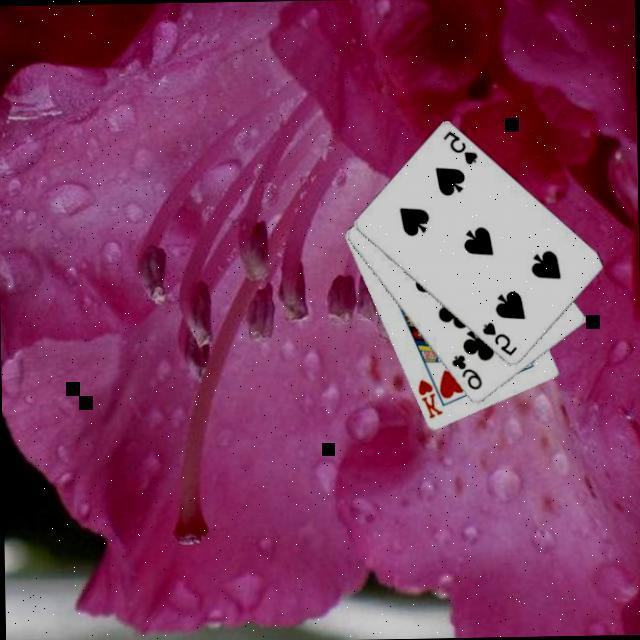5S: (437, 129, 480, 170), (478, 320, 519, 361)
9C: (447, 353, 484, 396)
KH: (412, 377, 444, 423)
